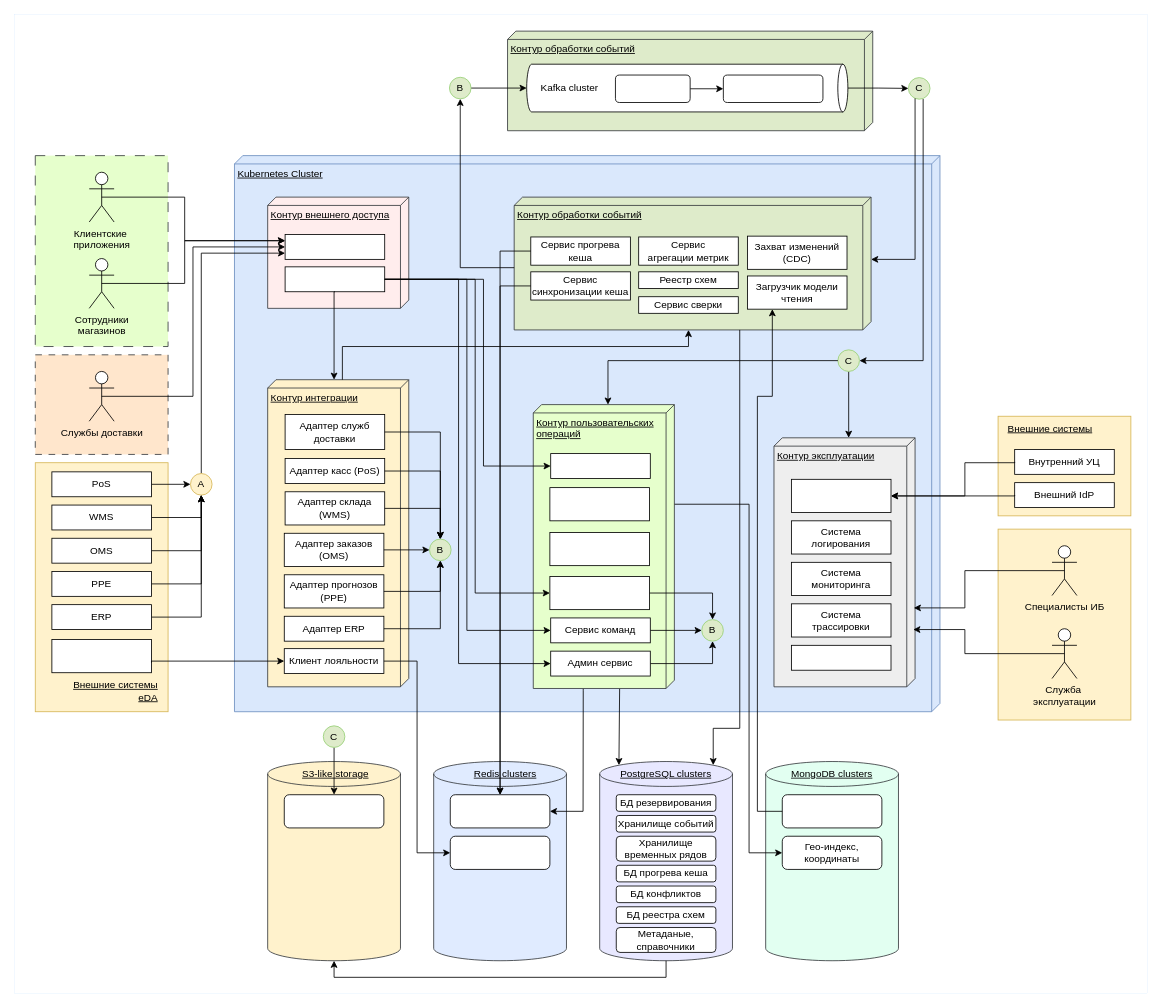
Some shapes in this 1161 by 1008 pixel diagram are drawn without their labels. The shapes that lost their labels are listed below. From the top down, each one's centre as x and y in pixels, then its label:
At pixel 652 88: "Event Bus".
At pixel 773 88: "Очередь ошибок".
At pixel 334 246: "Kubernetes Ingress".
At pixel 334 279: "API Gateway".
At pixel 600 465: "Сервис запросов".
At pixel 599 504: "Гео-сервисы".
At pixel 841 495: "Управление секретами".
At pixel 599 549: "Менеждер блокировок".
At pixel 599 593: "Сервис резервирования".
At pixel 101 656: "Платформа Лояльности".
At pixel 841 657: "Оповещение".
At pixel 333 811: "Архивное хранилище".
At pixel 499 811: "Распределенный кеш".
At pixel 831 811: "Хранилище модели чтения".
At pixel 499 852: "Кеш лояльности".
